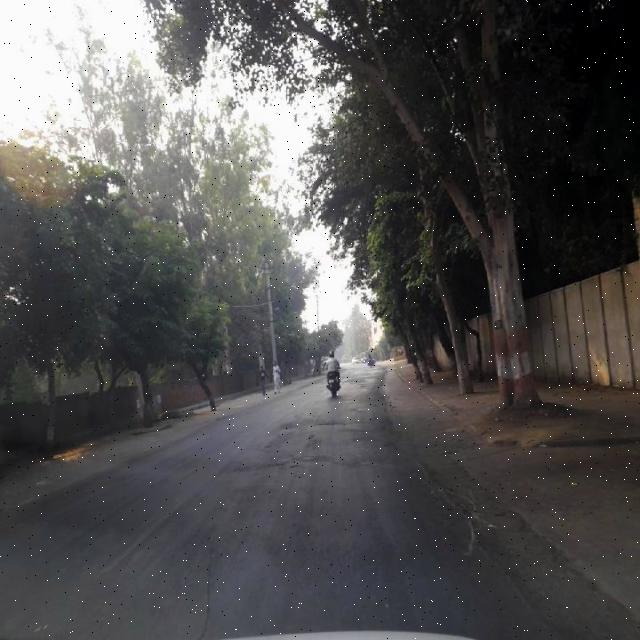D00: (415, 463, 494, 562), (194, 533, 218, 639)
